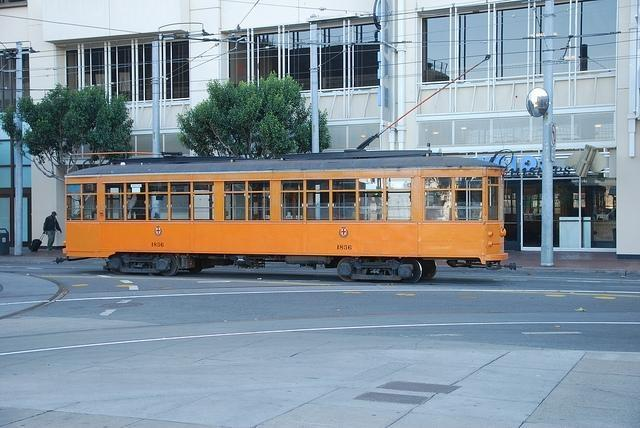bus: (64, 149, 506, 282)
